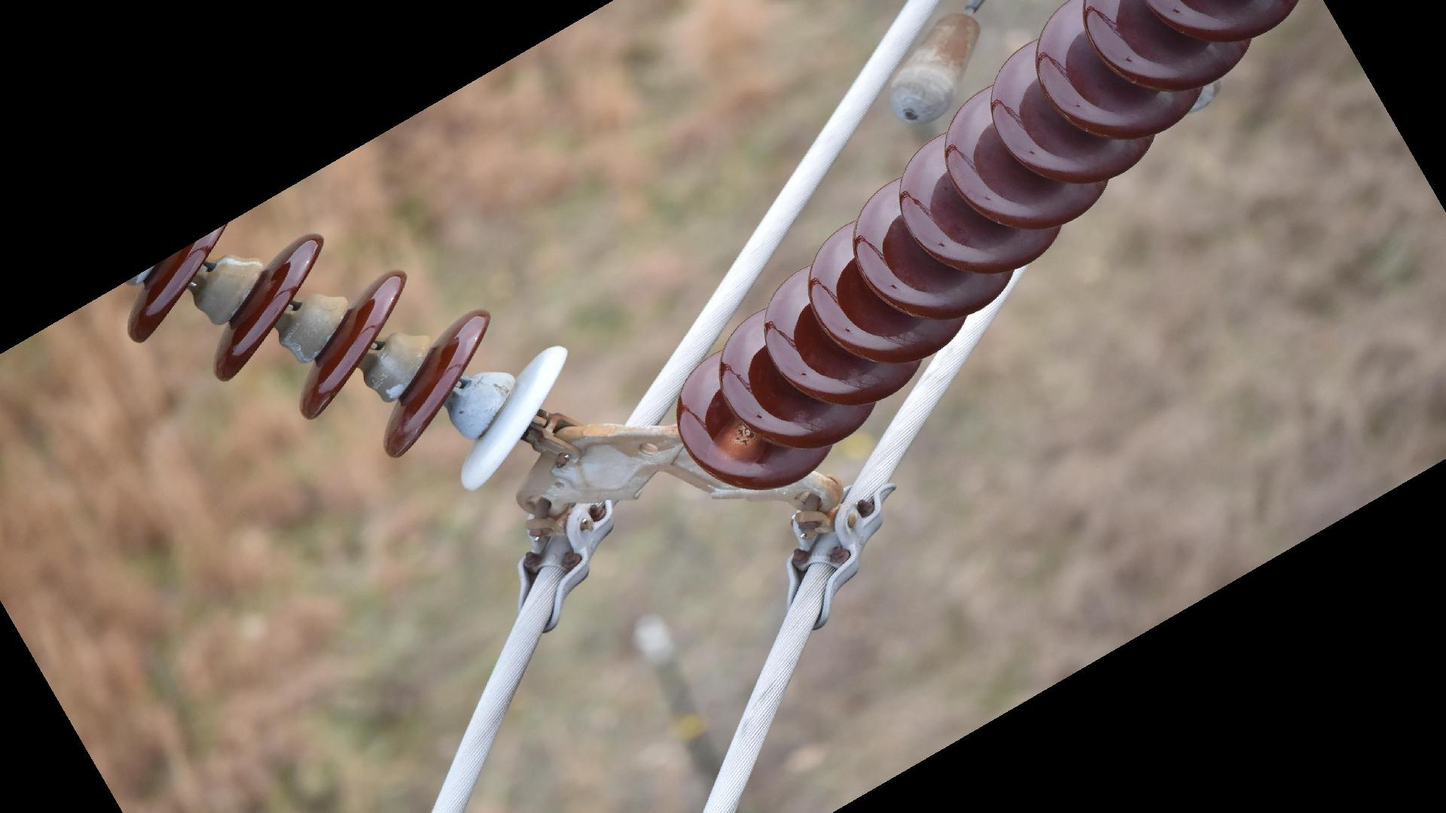insulator: (670, 1, 1296, 501), (118, 209, 575, 498)
insulator_flashover: (709, 417, 761, 473)
